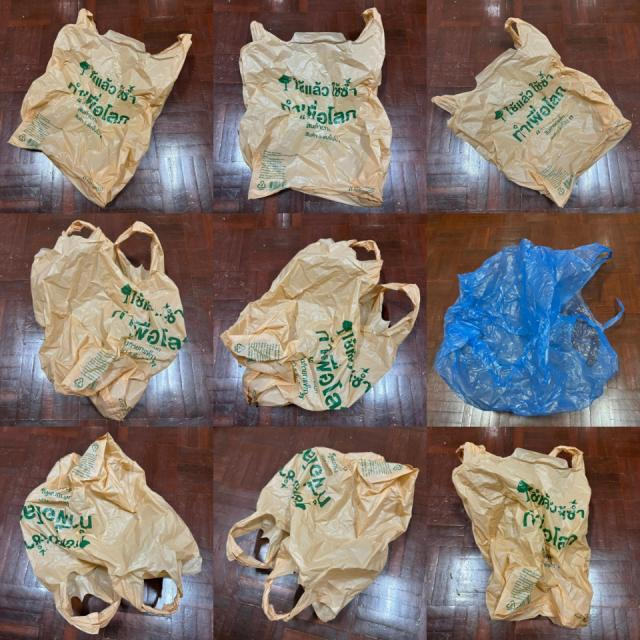Single-layer Plastic: (432, 18, 631, 207), (20, 434, 201, 634), (9, 9, 191, 206), (221, 239, 420, 411), (435, 239, 624, 416), (226, 448, 419, 621), (31, 220, 186, 419), (239, 8, 391, 207), (452, 442, 592, 629)
